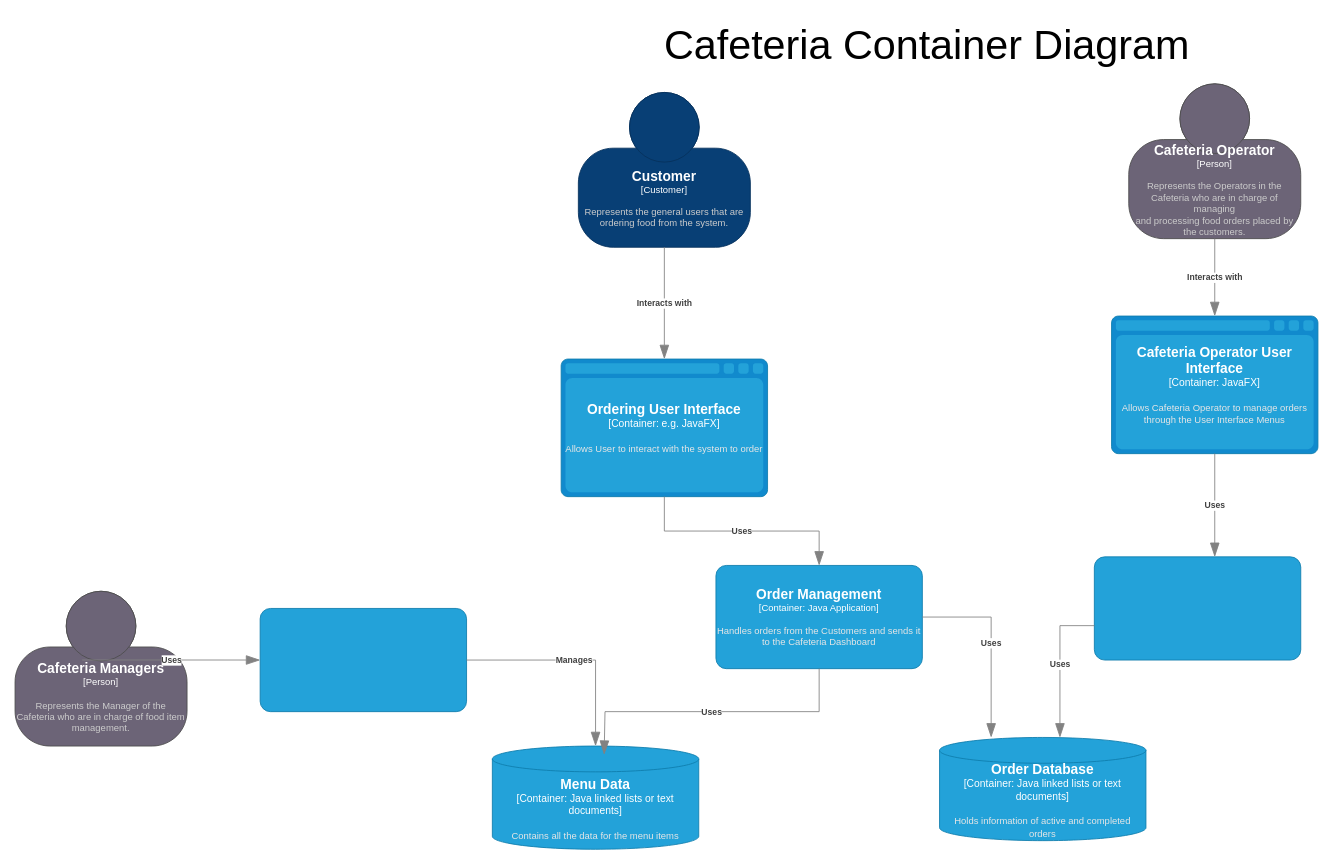
The diagram is 1333 pixels wide and 864 high, and some of its shapes have lost their labels. The shapes that lost their labels are listed below. From the top down, each one's centre as x and y in pixels, then its label:
At (x=1197, y=608): "Dashboard [Container: Java Application] Allows for management of orders".
At (x=363, y=660): "Menu Item Factory [Container: Java Application] Adds items to the menu".
